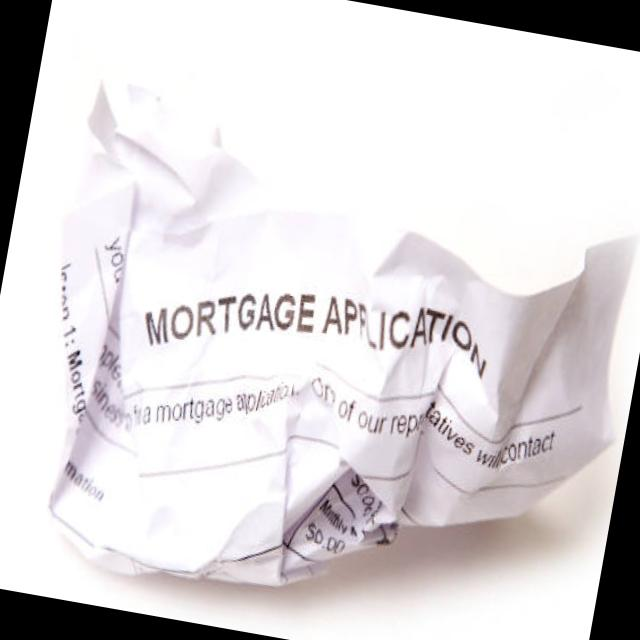electronic: (3, 66, 640, 640)
